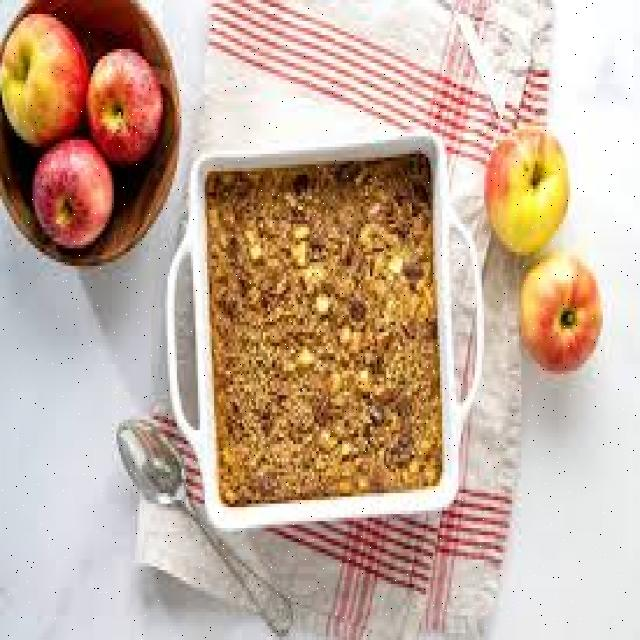Apple: (2, 15, 88, 138), (525, 252, 602, 372), (487, 136, 565, 250), (88, 45, 161, 159), (32, 141, 112, 240)
